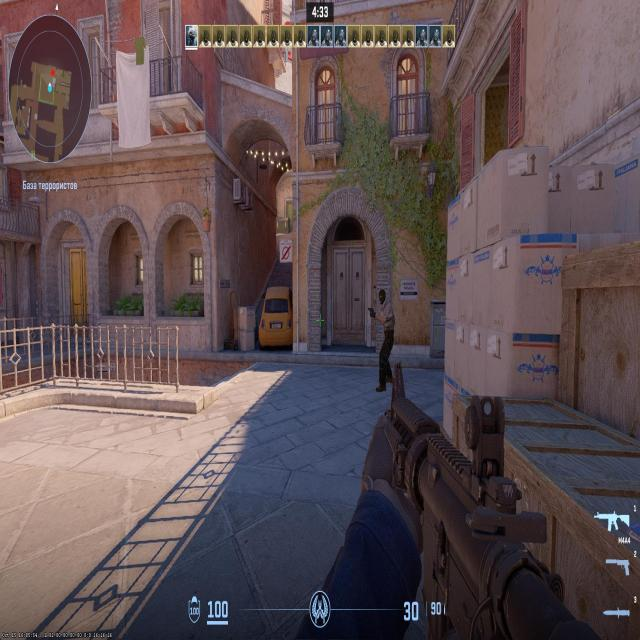T: (373, 290, 390, 385)
T_heat: (382, 292, 388, 307)
